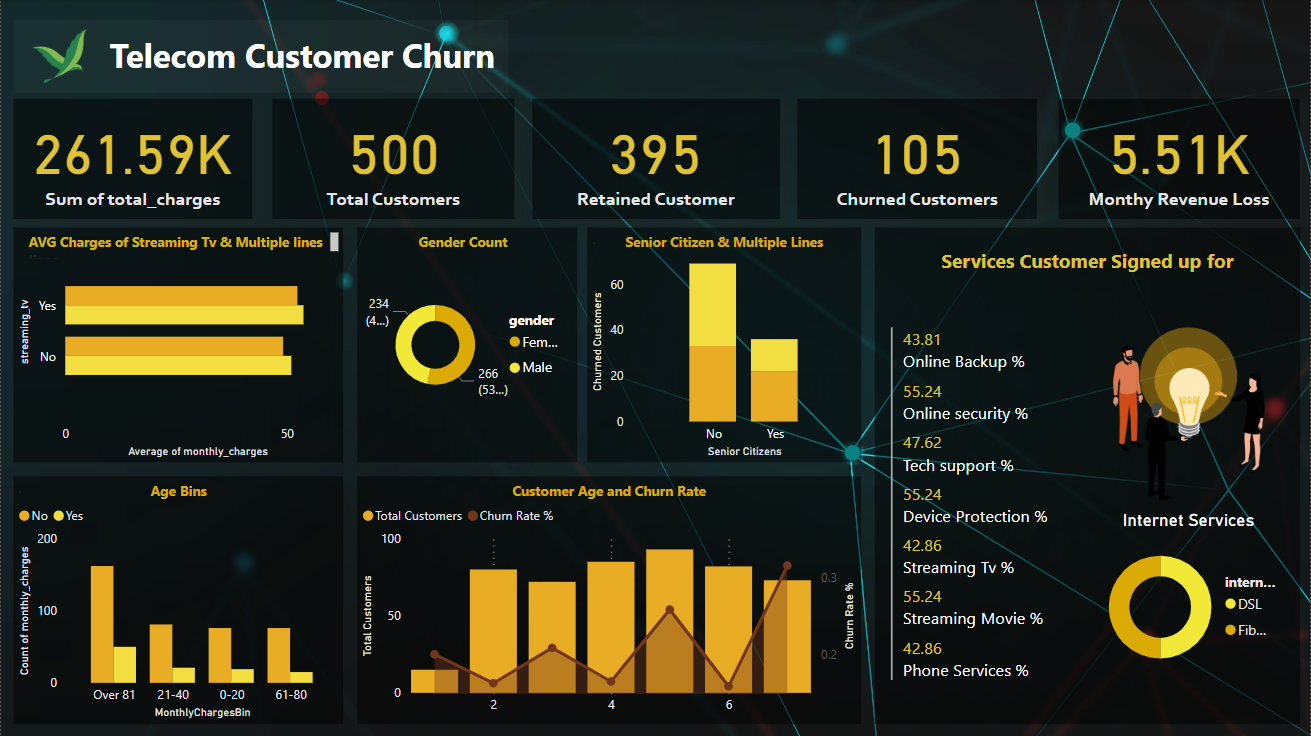

What the dashboard file says about the page in this screenshot:
{"tool":"powerbi","page":{"name":"Customer Churn Dashboard","canvas":[1280,720],"ordinal":0},"visuals":[{"type":"textbox","box":[12.2,19.6,484.1,70.9],"z":0},{"type":"image","box":[0,14.7,114.9,80.7],"z":1000},{"type":"card","fields":{"Values":["Sum(customer_churn.total_charges)"]},"box":[12.2,96.6,233.5,117.4],"z":2000},{"type":"card","fields":{"Values":["customer_churn.Total Customers"]},"box":[265.3,96.6,237.1,117.4],"z":3000},{"type":"card","fields":{"Values":["customer_churn.Monthy Revenue Loss"]},"box":[1034.2,96.6,235.9,117.4],"z":4000},{"type":"card","fields":{"Values":["customer_churn.Retained Customer"]},"box":[519.5,96.6,242,117.4],"z":5000},{"type":"card","fields":{"Values":["customer_churn.Churned Customer"]},"box":[778.7,96.6,234.7,117.4],"z":6000},{"type":"columnChart","title":".","fields":{"Y":["customer_churn.Churned Customer"],"Category":["customer_churn.Senior Citizens"],"Series":["customer_churn.multiple_lines"]},"box":[573.3,222.5,267.7,229.8],"z":7000},{"type":"clusteredBarChart","fields":{"Category":["customer_churn.streaming_tv"],"Y":["Avg(customer_churn.monthly_charges)"],"Series":["customer_churn.multiple_lines"]},"box":[12.2,222.5,322.7,229.8],"z":8000},{"type":"lineStackedColumnComboChart","title":".","fields":{"Category":["customer_churn.Age Bin"],"Y":["customer_churn.Total Customers"],"Y2":["customer_churn.Churn Rate %"]},"box":[348.4,465.7,492.6,242],"z":9000},{"type":"clusteredColumnChart","title":".","fields":{"Category":["customer_churn.MonthlyChargesBin"],"Series":["customer_churn.churn_status"],"Y":["CountNonNull(customer_churn.monthly_charges)"]},"box":[12.2,465.7,322.7,242],"z":10000},{"type":"textbox","box":[854.5,222.5,415.6,485.3],"z":11000},{"type":"multiRowCard","fields":{"Values":["customer_churn.# Device protection in %","customer_churn.Online security %","customer_churn.Tech support %","customer_churn.Device Protection %","customer_churn.Streaming Tv %","customer_churn.Streaming Movie %","customer_churn.Phone Services %"]},"box":[865.5,315.4,196.8,365.5],"z":12000},{"type":"image","box":[1065.9,315.4,190.7,179.7],"z":13000},{"type":"donutChart","title":"Internet Services","fields":{"Category":["customer_churn.internet_service"],"Y":["CountNonNull(customer_churn.internet_service)"]},"box":[1065.9,498.7,190.7,171.1],"z":13001},{"type":"textbox","box":[854.5,237.1,415.6,41.6],"z":13002},{"type":"donutChart","fields":{"Category":["customer_churn.gender"],"Y":["CountNonNull(customer_churn.gender)"]},"box":[348.4,222.5,215.1,229.8],"z":13003},{"type":"textbox","box":[22,222.5,312.9,35.4],"z":13004},{"type":"textbox","box":[365.5,222.5,172.4,35.4],"z":13005},{"type":"textbox","box":[573.3,222.5,267.7,35.4],"z":13006},{"type":"textbox","box":[348.4,465.7,492.6,29.3],"z":13007},{"type":"textbox","box":[12.2,465.7,322.7,29.3],"z":13008}]}

Visuals, with their boxes in screenshot pixels (x1, y1, x2, y2), scaled from the page's 1280x720 canvas onto the 1311x736 screenshot:
textbox: [x1=12, y1=20, x2=508, y2=93]
image: [x1=0, y1=15, x2=118, y2=98]
card - Sum(customer_churn.total_charges): [x1=12, y1=99, x2=252, y2=219]
card - customer_churn.Total Customers: [x1=272, y1=99, x2=515, y2=219]
card - customer_churn.Monthy Revenue Loss: [x1=1059, y1=99, x2=1301, y2=219]
card - customer_churn.Retained Customer: [x1=532, y1=99, x2=780, y2=219]
card - customer_churn.Churned Customer: [x1=798, y1=99, x2=1038, y2=219]
"." columnChart: [x1=587, y1=227, x2=861, y2=462]
clusteredBarChart - customer_churn.streaming_tv x Avg(customer_churn.monthly_charges): [x1=12, y1=227, x2=343, y2=462]
"." lineStackedColumnComboChart: [x1=357, y1=476, x2=861, y2=723]
"." clusteredColumnChart: [x1=12, y1=476, x2=343, y2=723]
textbox: [x1=875, y1=227, x2=1301, y2=724]
multiRowCard - customer_churn.# Device protection in % x customer_churn.Online security %: [x1=886, y1=322, x2=1088, y2=696]
image: [x1=1092, y1=322, x2=1287, y2=506]
"Internet Services" donutChart: [x1=1092, y1=510, x2=1287, y2=685]
textbox: [x1=875, y1=242, x2=1301, y2=285]
donutChart - customer_churn.gender x CountNonNull(customer_churn.gender): [x1=357, y1=227, x2=577, y2=462]
textbox: [x1=23, y1=227, x2=343, y2=264]
textbox: [x1=374, y1=227, x2=551, y2=264]
textbox: [x1=587, y1=227, x2=861, y2=264]
textbox: [x1=357, y1=476, x2=861, y2=506]
textbox: [x1=12, y1=476, x2=343, y2=506]
